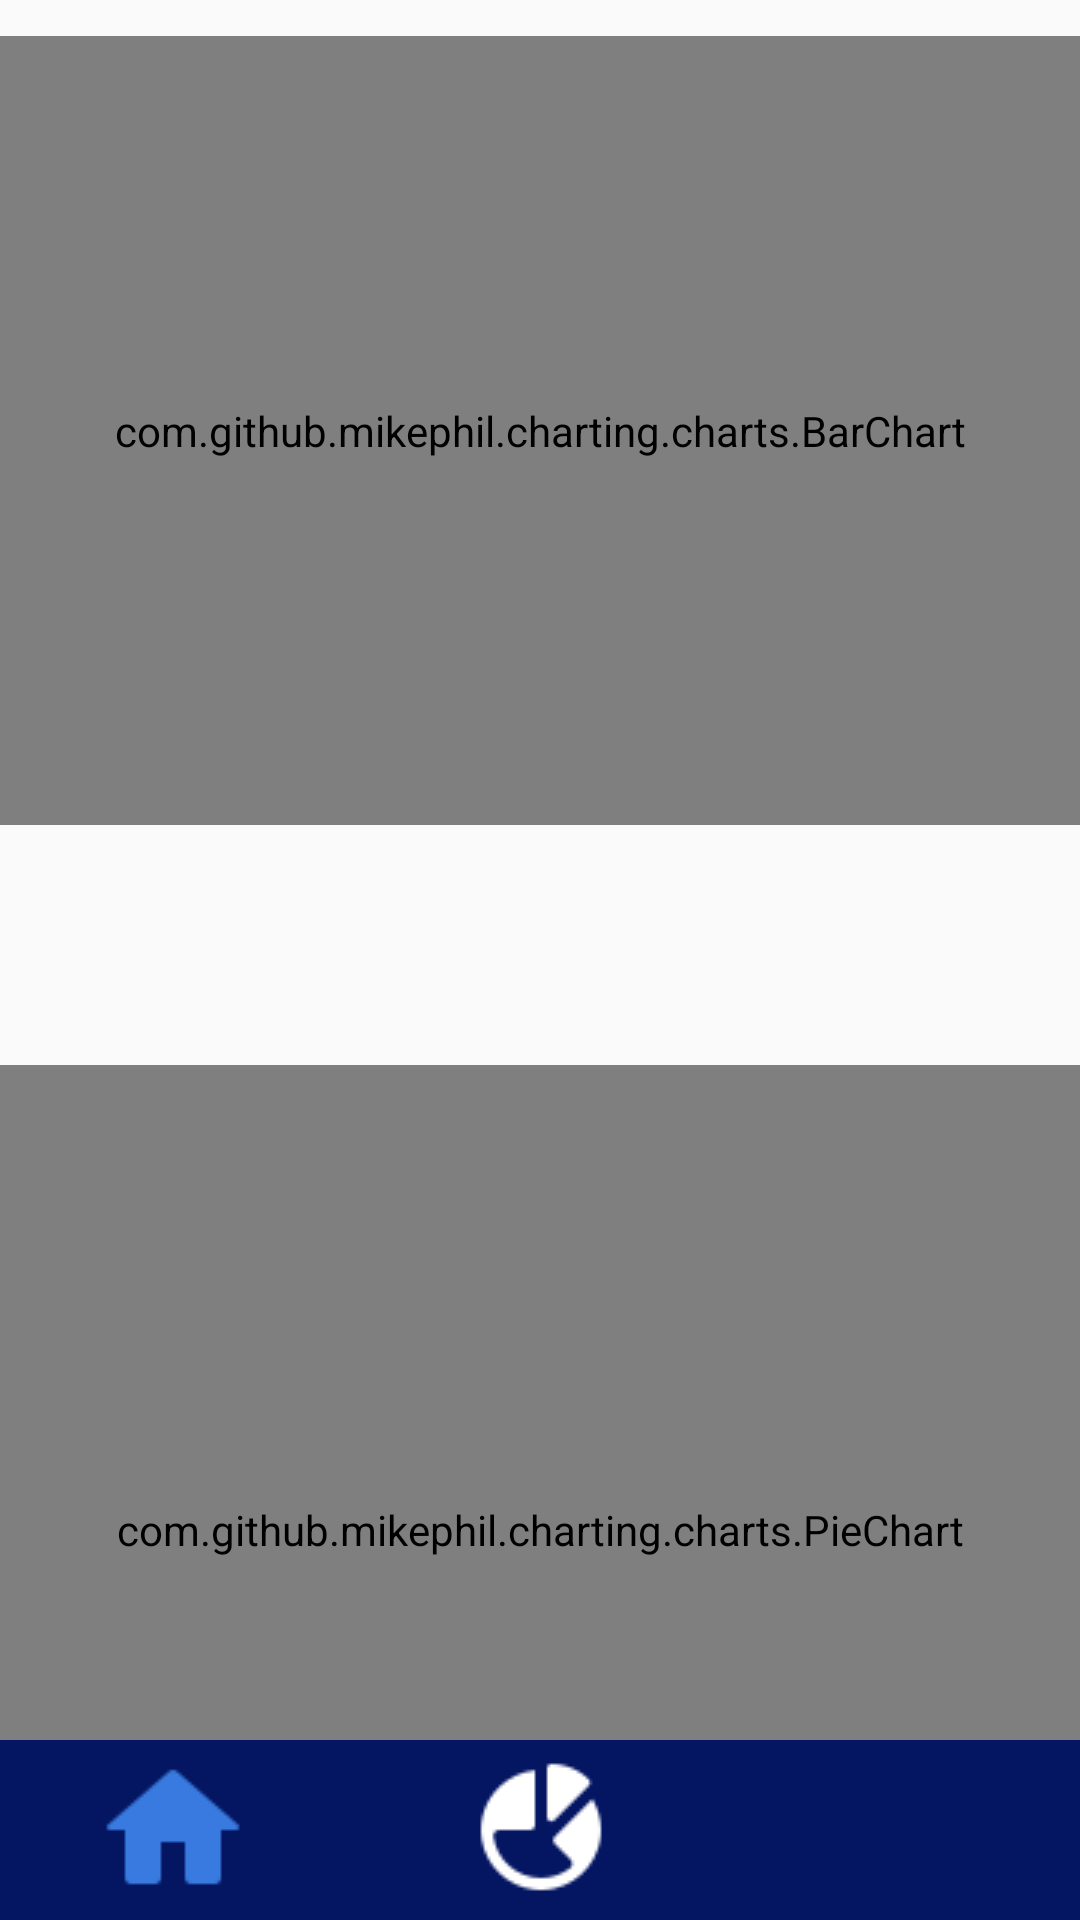

Where to tap for icons on this 1080 x 1920 app screen, as (x=x, y=y):
home: (x=173, y=1827)
stat: (x=541, y=1827)
